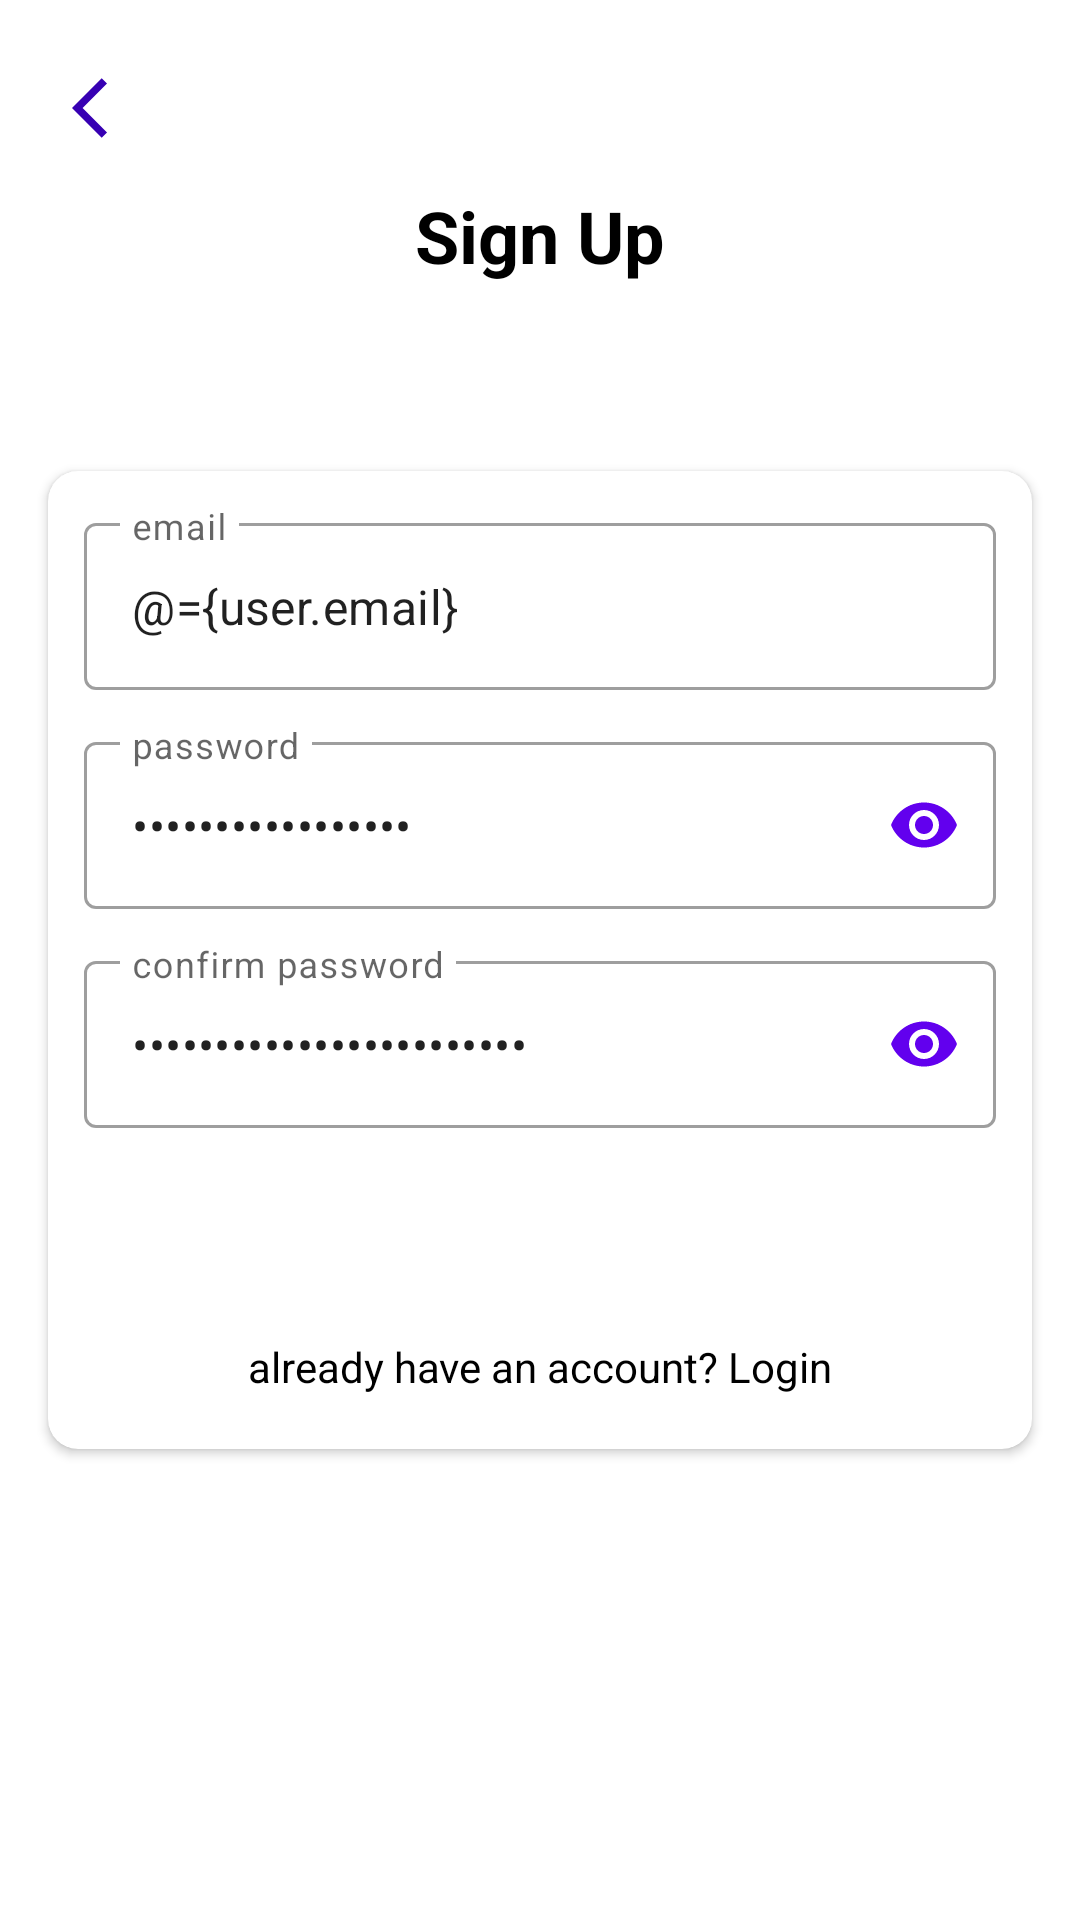

Icons on this 1080px x 1920px Android screen, each with its box as bbox=(x1, y1, x2, y2):
arrow back: bbox=(72, 78, 107, 138)
